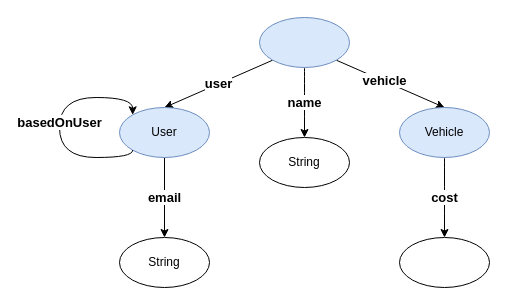
Image size: 507x305. Some labels were removed from this diagram. The shapes that lost their labels are listed below. From the top down, each one's centre as x and y in pixels, then its label:
At (304,42): "Person".
At (444,262): "BigDecimal".
